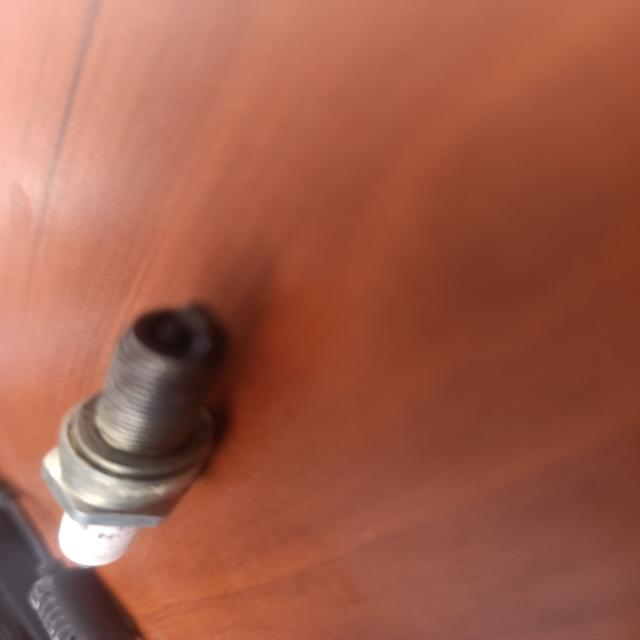Mause: (43, 305, 226, 567)
